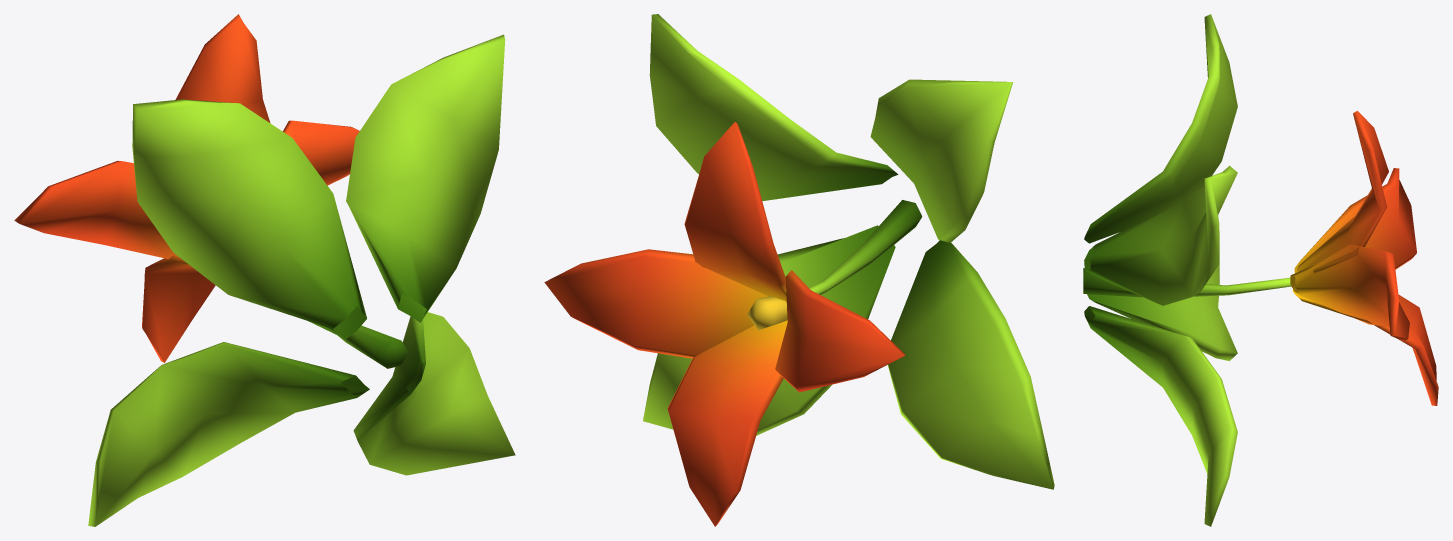
The model's file is orngFlwr.fbx.
3 views of the same model, side by side, from view 1: azimuth 30°, elevation 25°; view 2: azimuth 150°, elevation 25°; view 3: azimuth 270°, elevation 25° (orthographic). The views are drawn at different scales.
Parts seen in each view (by area): view 1: FLOWER1; view 2: FLOWER1; view 3: FLOWER1.
Part boxes in pixels (x1,y1,x2,y2): FLOWER1: (14, 14, 515, 526); FLOWER1: (544, 14, 1054, 526); FLOWER1: (1083, 14, 1438, 526).
Size of the model in its own units: 328 by 328 by 292.
